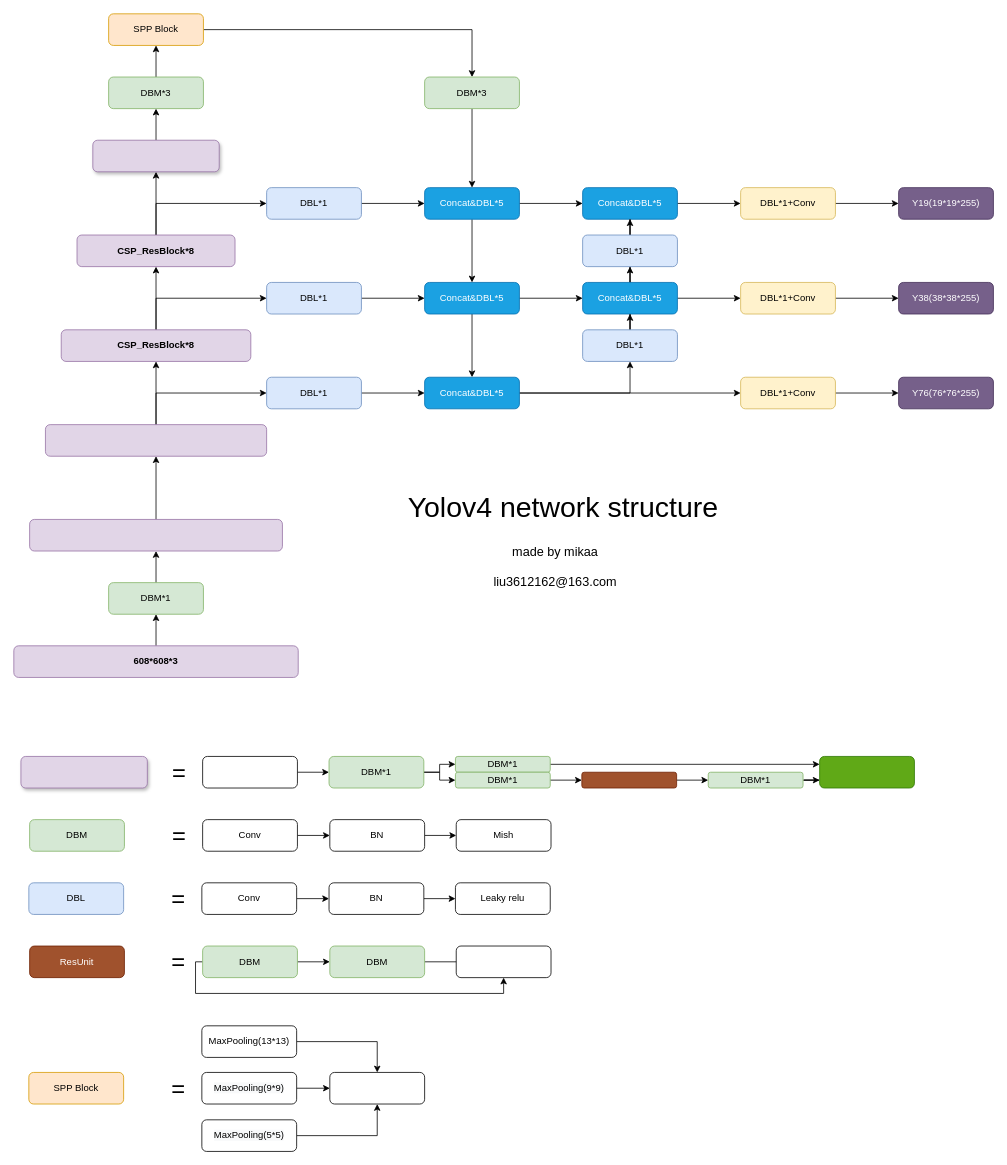
Image size: 1007x1165. Some labels were removed from this diagram. The shapes that lost their labels are listed below. From the top down, each one's centre as x and y in pixels, then its label:
At point 156,156: "CSP_ResBlock*4".
At point 156,440: "CSP_ResBlock*2".
At point 155,535: "CSP_ResBlock*1".
At point 84,773: "CSP_ResBlock*n".
At point 249,772: "ZeroPadding".
At point 629,779: "ResUnit*n".
At point 866,772: "Concat&DBM*1".
At point 503,961: "Add".
At point 377,1088: "Concate".
